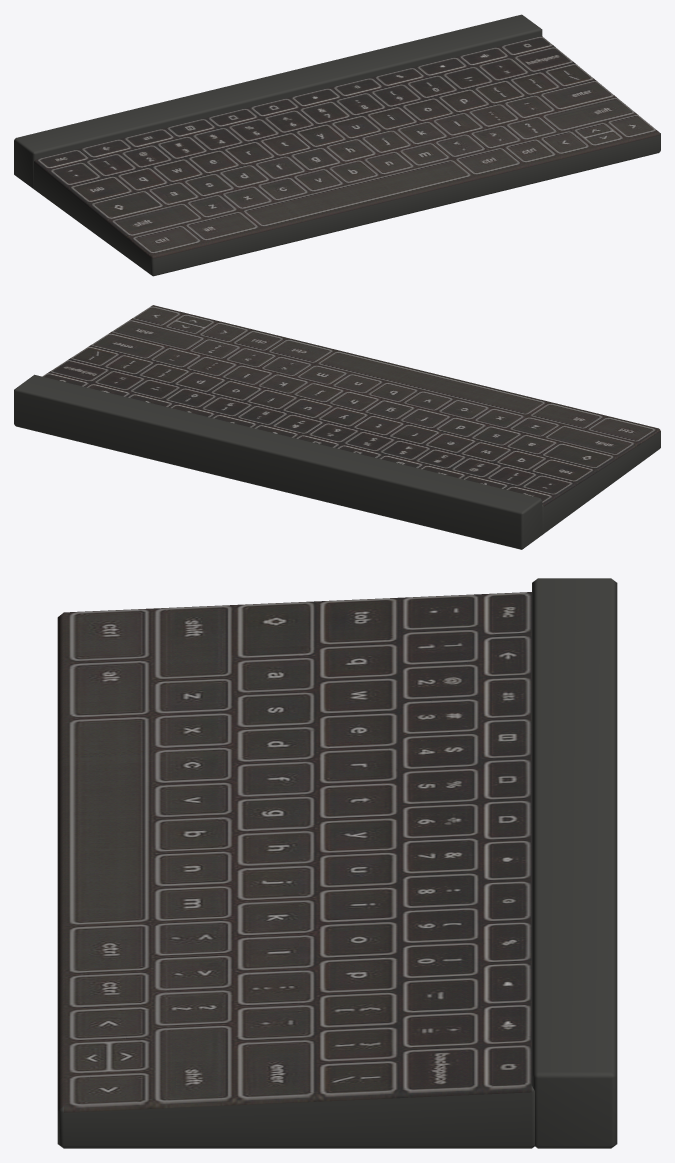
File: SM_keyboard_black.fbx
3 views of the same model, one above another, from view 1: azimuth 30°, elevation 25°; view 2: azimuth 150°, elevation 25°; view 3: azimuth 270°, elevation 25° (orthographic). The views are drawn at different scales.
Parts seen in each view (by area): view 1: keyboard02; view 2: keyboard02; view 3: keyboard02.
Boxes of the visible parts, x1,y1,x2,y2 form: keyboard02: (14, 14, 660, 276); keyboard02: (14, 305, 660, 549); keyboard02: (57, 578, 617, 1148).
Bounding box in the file's own units: 16.07 × 1.16 × 7.63.
Materials: 1 (1 with a texture image).
